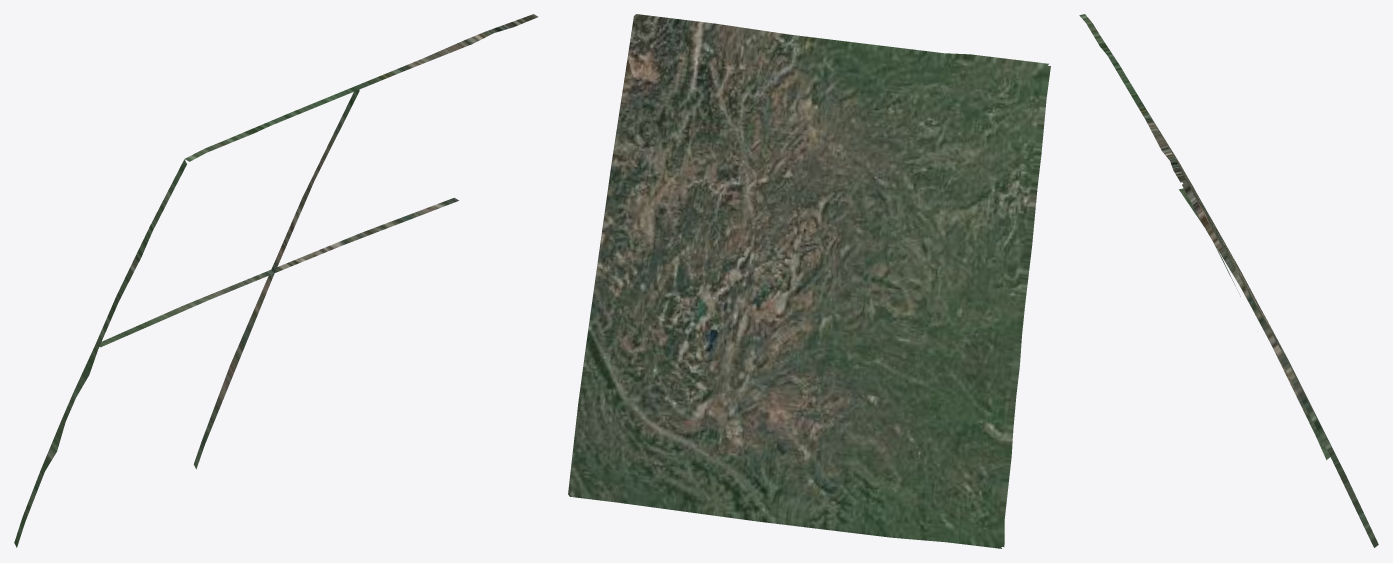
The picture shows the model from 3 angles, left to right: view 1: azimuth 30°, elevation 25°; view 2: azimuth 150°, elevation 25°; view 3: azimuth 270°, elevation 25°; orthographic projection. The views are drawn at different scales.
Bounding box in the file's own units: 619227 × 573661 × 404819.
Materials: 1 (1 with a texture image).
